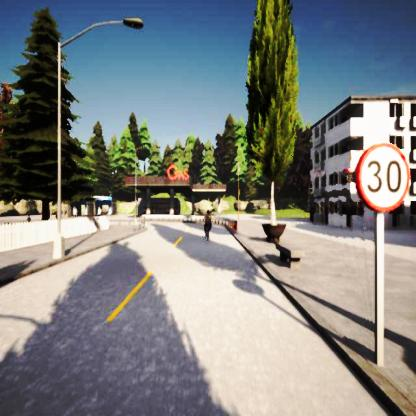motobike: (202, 210, 212, 239)
